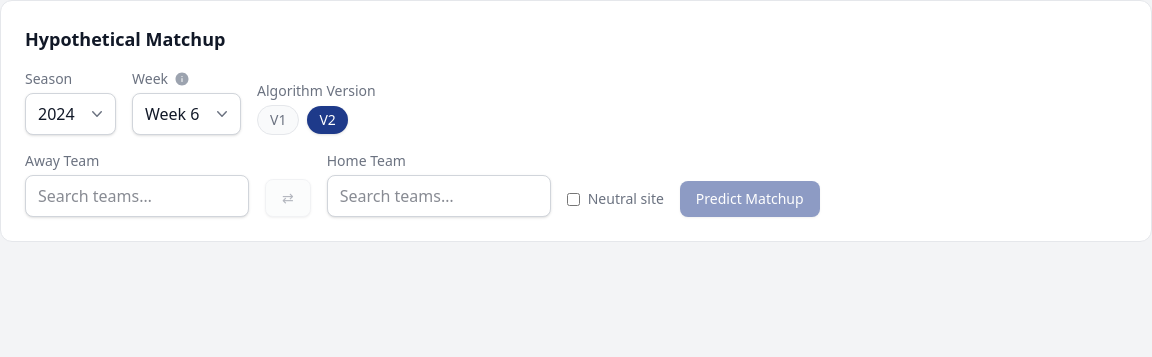
it: ExperimentalMatchupPanel › hides the team picked on the other side
Click the dropdown labelled "Away Team".
click(137, 196)  # box [25,175,249,217]
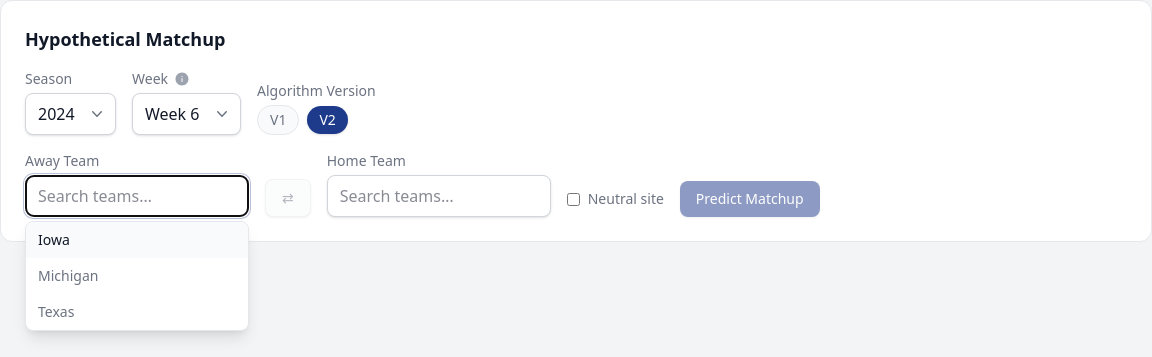
Click the option "Texas".
click(56, 312)  # box [38,302,74,321]
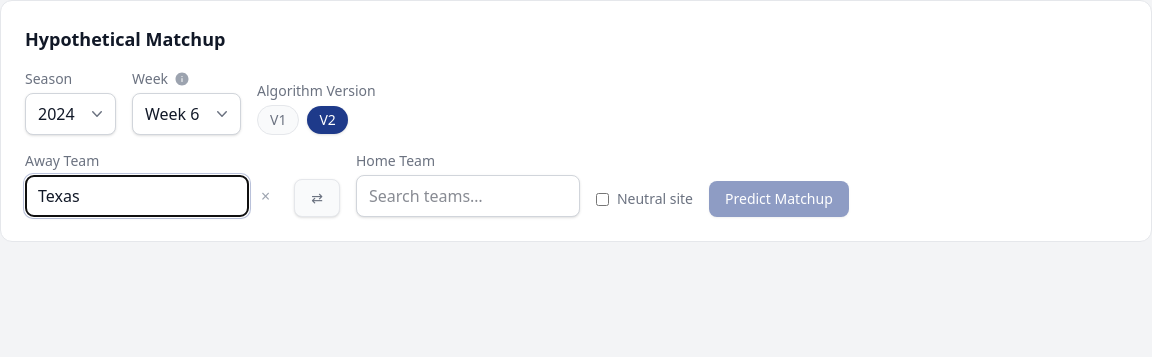
Click the dropdown labelled "Home Team".
click(468, 196)  # box [356,175,580,217]
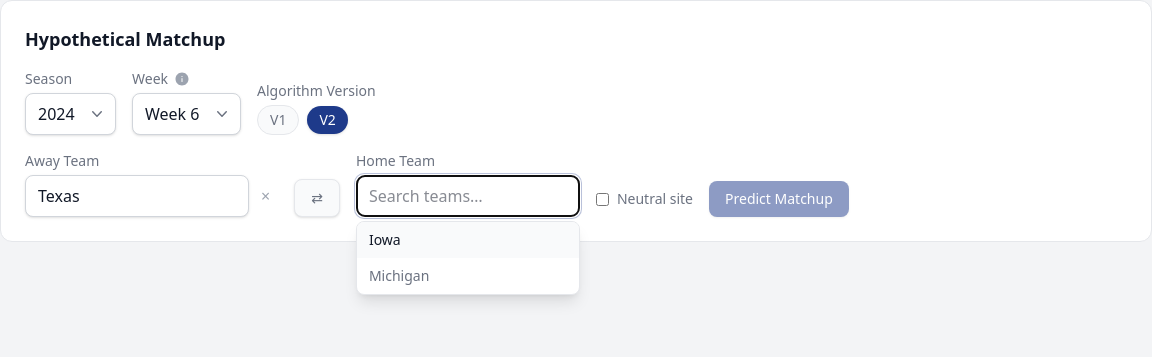
expect the number of options is 2: met, box [357,222,579,258]; [369,266,429,285]
